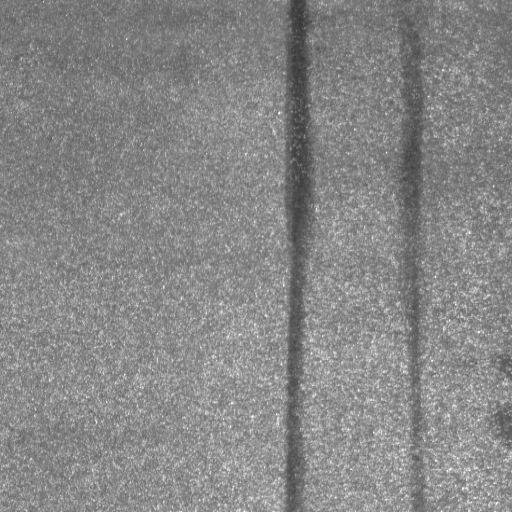zongxianghuashang: (398, 17, 431, 511), (288, 1, 315, 512)
